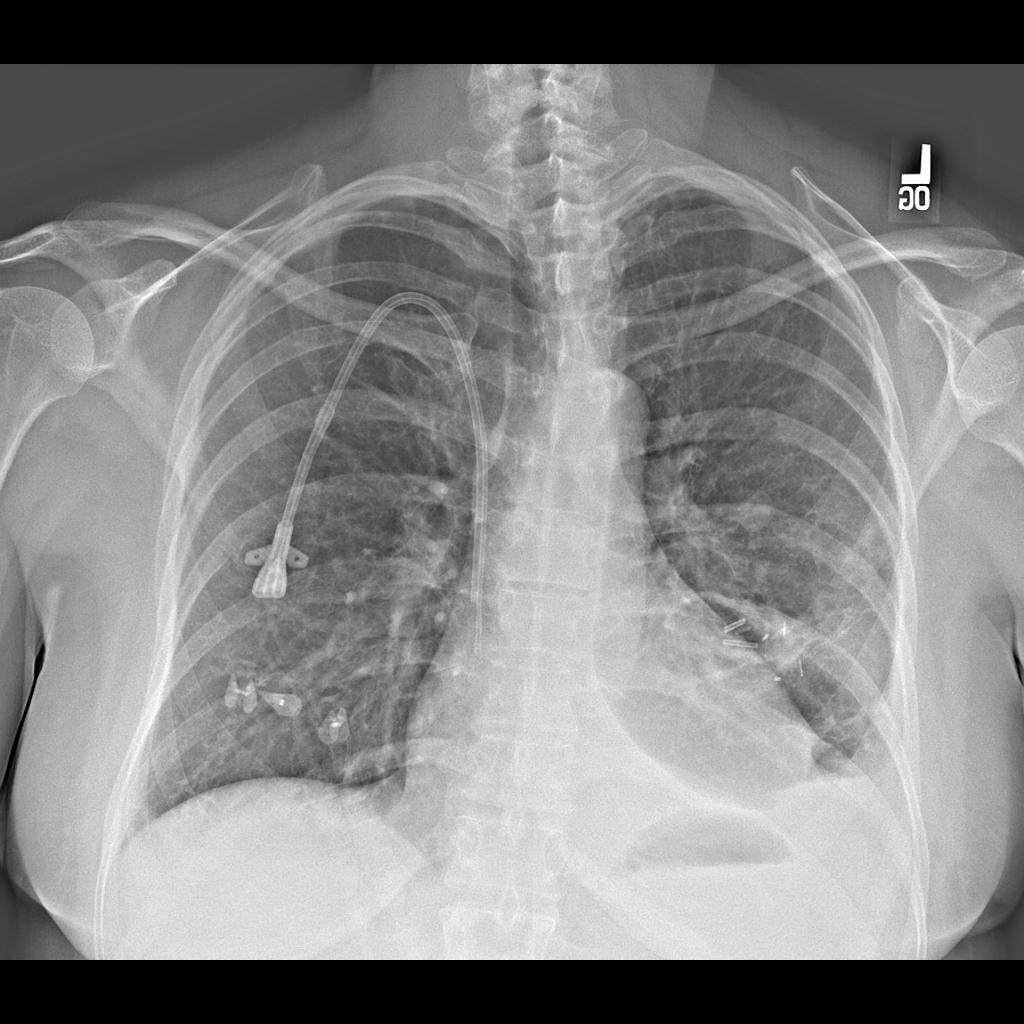Nodule: (759, 622, 819, 675)
